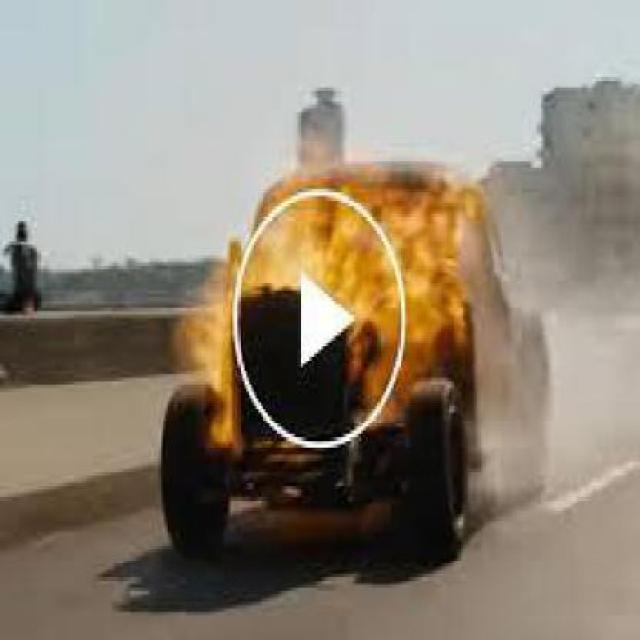Fire: (179, 153, 478, 424)
